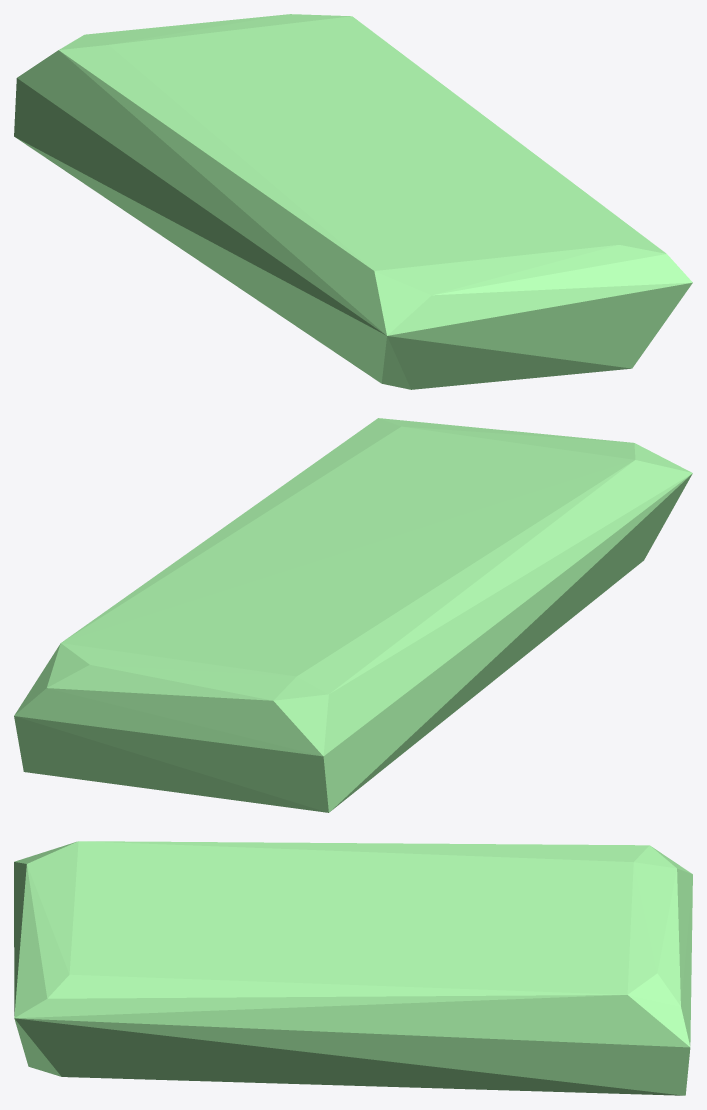
File: UMIRobot_UMIRobot_link_3_convex_coll_27.dae
3 renders of one model, top to bottom at view 1: azimuth 30°, elevation 25°; view 2: azimuth 150°, elevation 25°; view 3: azimuth 270°, elevation 25°, orthographic. The views are drawn at different scales.
Visible parts, largest first — view 1: node; view 2: node; view 3: node.
Boxes of the visible parts, box(x1,y1,x2,y2) form: node: box(14, 14, 692, 389); node: box(14, 418, 692, 812); node: box(14, 841, 692, 1095).
Bounding box in the file's own units: 0.0199 × 0.00841 × 0.0404.
